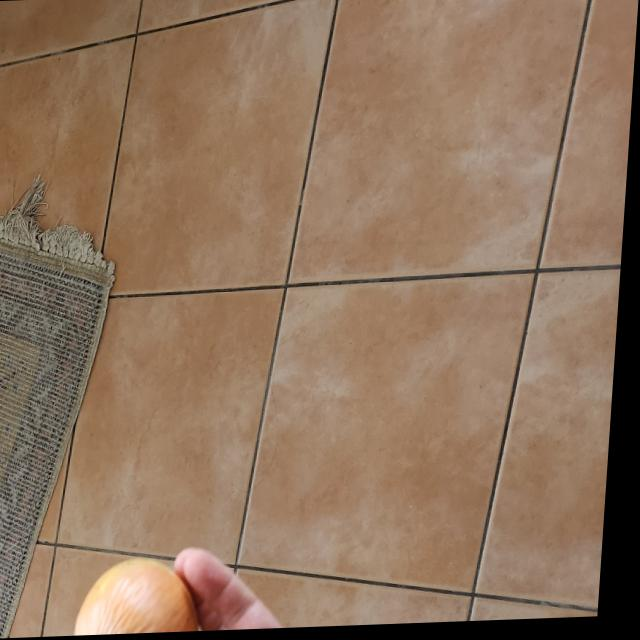brown onion: (79, 554, 209, 637)
